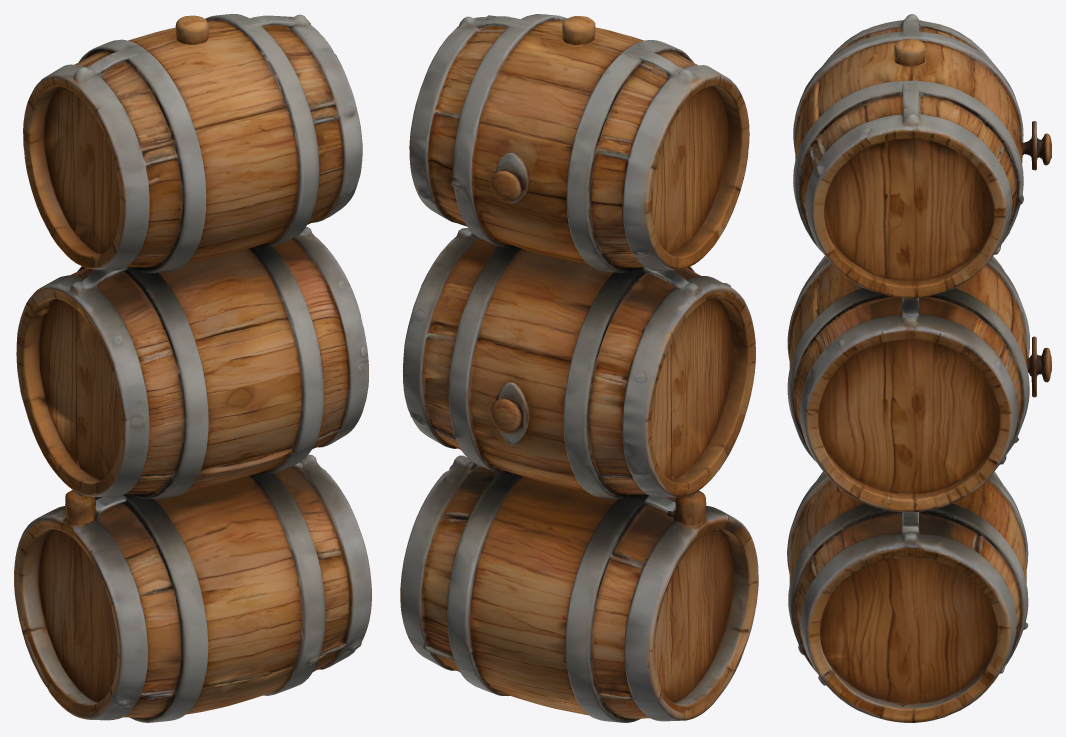
Rendered from prop-barrel-stack.glb.
The picture shows the model from 3 angles, left to right: view 1: azimuth 30°, elevation 25°; view 2: azimuth 150°, elevation 25°; view 3: azimuth 270°, elevation 25°; orthographic projection. The views are drawn at different scales.
Parts seen in each view (by area): view 1: tripo_node_65fe3310-5d6d-4b6d-b9d7-4ec474fc91f8; view 2: tripo_node_65fe3310-5d6d-4b6d-b9d7-4ec474fc91f8; view 3: tripo_node_65fe3310-5d6d-4b6d-b9d7-4ec474fc91f8.
Boxes of the visible parts, x1,y1,x2,y2 form: tripo_node_65fe3310-5d6d-4b6d-b9d7-4ec474fc91f8: (14,14,371,722); tripo_node_65fe3310-5d6d-4b6d-b9d7-4ec474fc91f8: (400,14,758,722); tripo_node_65fe3310-5d6d-4b6d-b9d7-4ec474fc91f8: (787,14,1051,722).
Size of the model in its own units: 0.6984 by 1.8 by 0.6753.
Materials: 1 (1 with a texture image).
